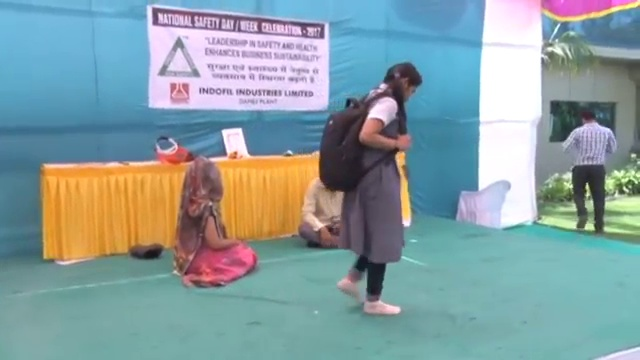helmet_off: (383, 61, 424, 102), (182, 157, 222, 199), (579, 110, 600, 127)
person: (319, 62, 424, 316), (174, 156, 257, 288), (563, 109, 619, 235), (298, 170, 354, 251)
